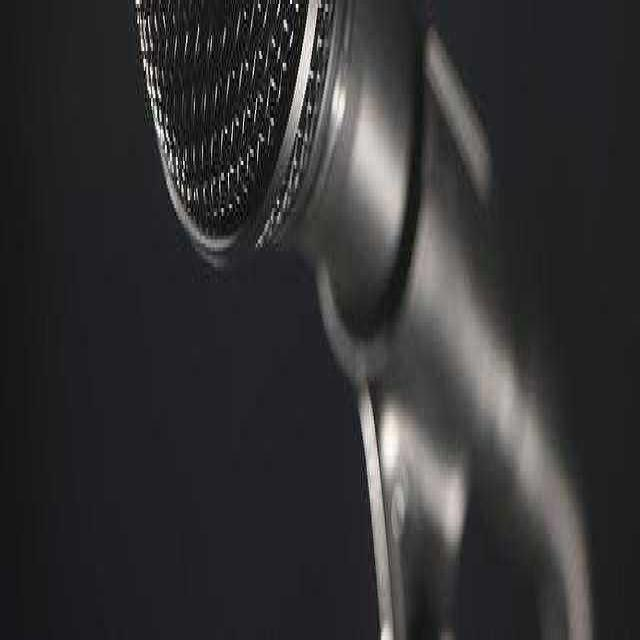microphone: (134, 0, 586, 626)
